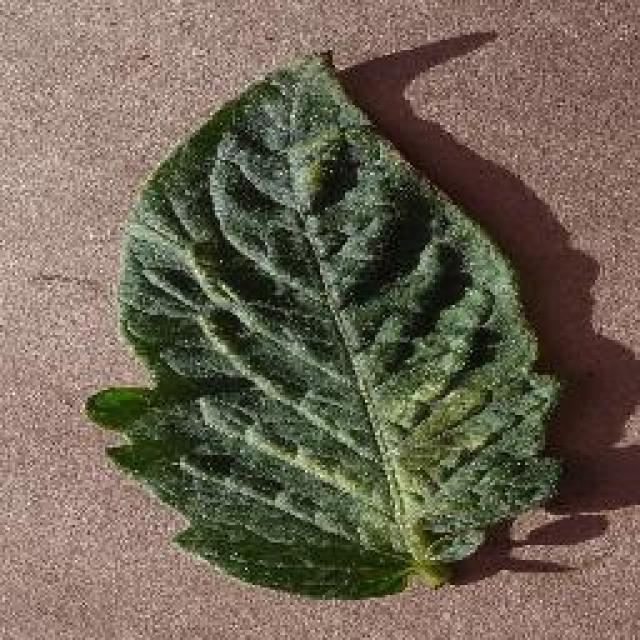Tomato spider mites leaf: (88, 48, 557, 600)
